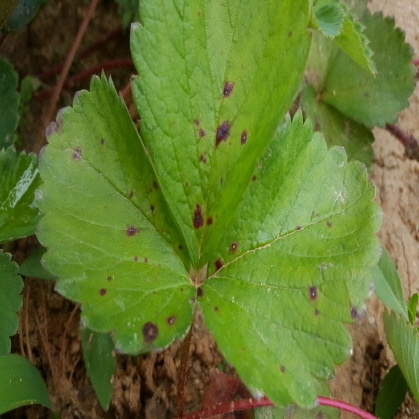Leaf_Spot: (35, 107, 223, 409), (195, 67, 387, 354), (104, 0, 290, 275), (0, 7, 319, 131), (43, 86, 315, 176)
